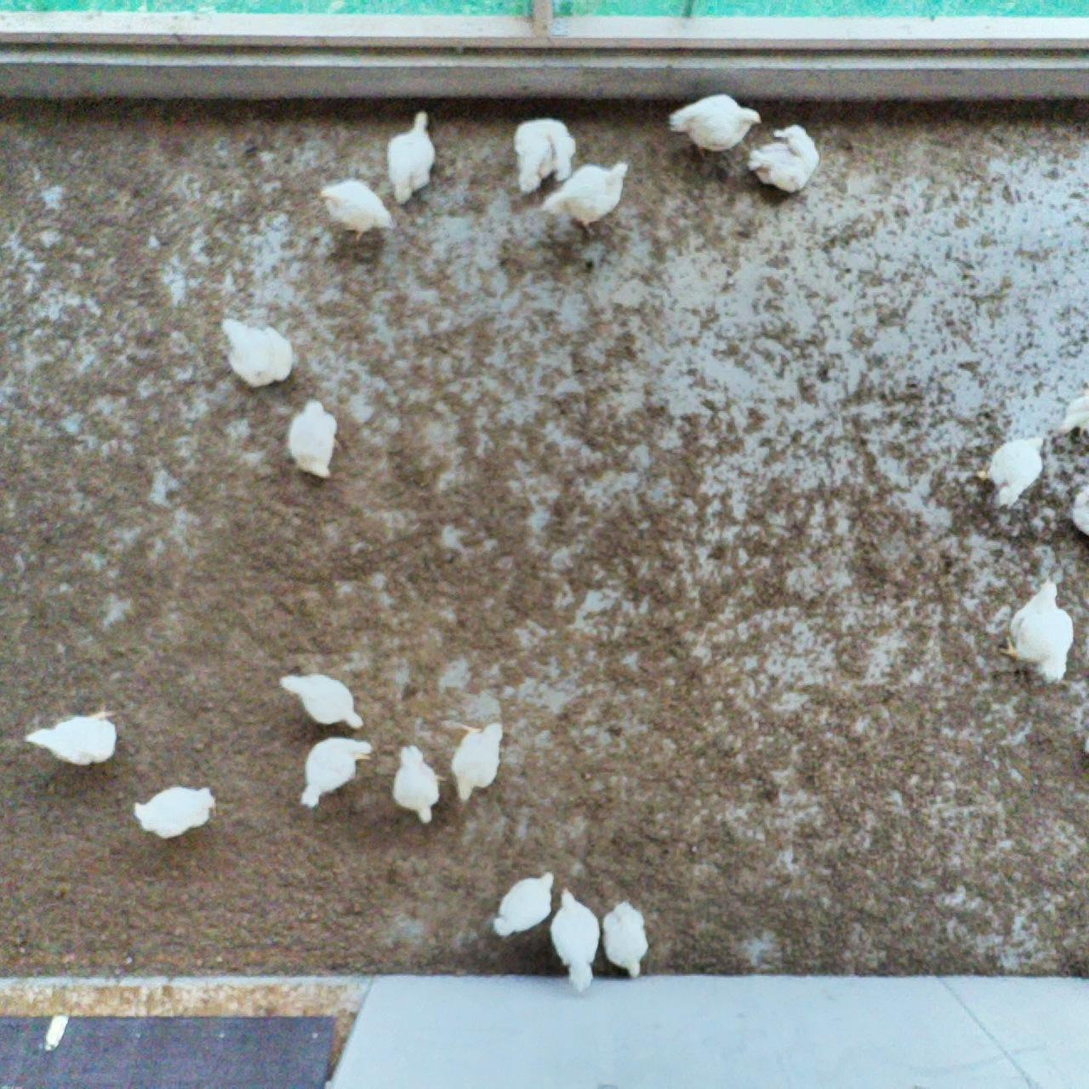chicken: (997, 573, 1079, 689), (18, 698, 130, 776), (538, 158, 639, 244), (663, 89, 765, 163), (213, 311, 297, 394), (971, 429, 1052, 511), (546, 883, 602, 995), (296, 734, 374, 811), (744, 121, 823, 197), (127, 781, 223, 843), (314, 174, 400, 243), (508, 115, 580, 197), (276, 671, 369, 733), (385, 742, 449, 832), (383, 109, 440, 209), (449, 717, 508, 809), (488, 867, 557, 942), (601, 894, 655, 982), (284, 397, 339, 483), (1051, 384, 1089, 450), (1068, 480, 1089, 538)
